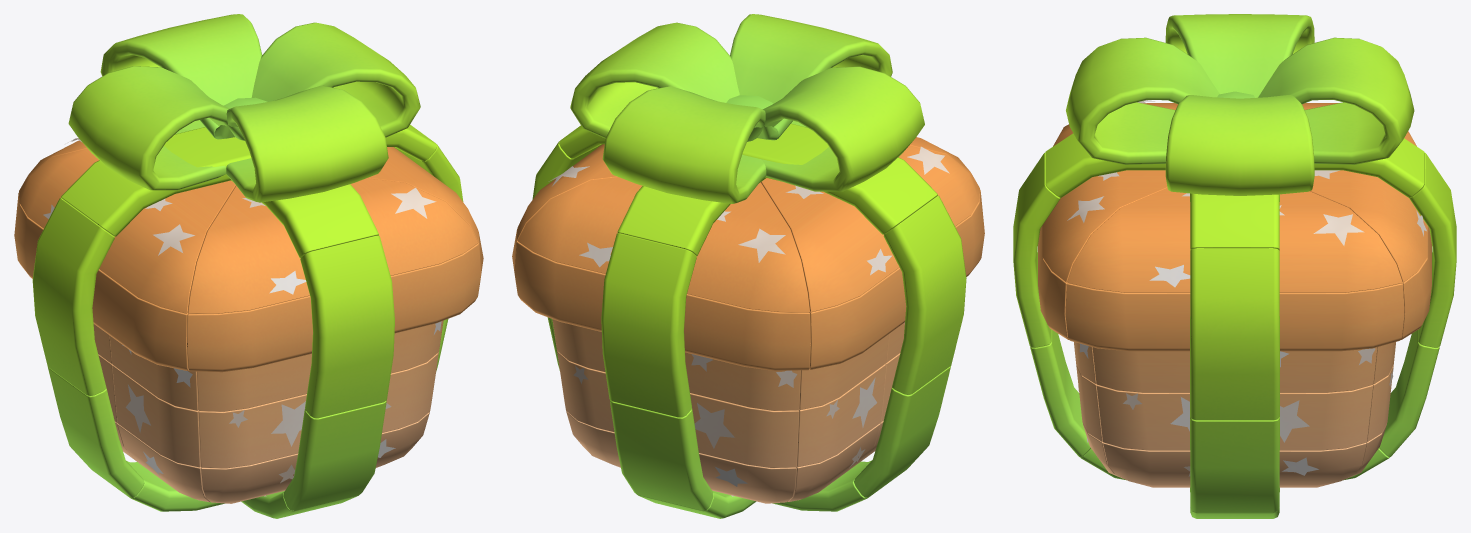
Rendered from level_181.fbx.
The picture shows the model from 3 angles, left to right: view 1: azimuth 30°, elevation 25°; view 2: azimuth 150°, elevation 25°; view 3: azimuth 270°, elevation 25°; orthographic projection.
Visible parts, largest first — view 1: Cube_L1_3, Cube_L1_12, Cube_L1_2, Cube_L1_11, Cube_L2_5, Cube_L1, Cube_L2_4, Cube_L1_1, Cube_L1_16, Cube_L2_13, Cube_L2_6, Cube_L1_7 (+20 smaller); view 2: Cube_L1_1, Cube_L1_10, Cube_L1_2, Cube_L1_11, Cube_L2_2, Cube_L1, Cube_L2_3, Cube_L1_3, Cube_L1_14, Cube_L2_10, Cube_L2_1, Cube_L1_7 (+20 smaller); view 3: Cube_L1_9, Cube_L1, Cube_L1_1, Cube_L1_3, Cube_L2_7, Cube_L2, Cube_L1_13, Cube_L1_2, Cube_L2_8, Cube_L2_15, Cube_L2_6, Cube_L2_1 (+20 smaller).
Part boxes in pixels (box(x1,y1,x2,y2)): Cube_L1_3: box(214, 85, 388, 202); Cube_L1_12: box(300, 235, 394, 418); Cube_L1_2: box(68, 66, 244, 190); Cube_L1_11: box(32, 198, 114, 396); Cube_L2_5: box(187, 186, 309, 314); Cube_L1: box(251, 22, 420, 137); Cube_L2_4: box(99, 180, 235, 313); Cube_L1_1: box(100, 14, 261, 137); Cube_L1_16: box(283, 401, 386, 510); Cube_L2_13: box(187, 296, 312, 372); Cube_L2_6: box(350, 178, 477, 275); Cube_L1_7: box(61, 127, 251, 236); Cube_L1_1: box(602, 86, 777, 203); Cube_L1_10: box(601, 233, 696, 417); Cube_L1_2: box(747, 66, 924, 191); Cube_L1_11: box(883, 195, 966, 395); Cube_L2_2: box(687, 182, 810, 312); Cube_L1: box(570, 22, 739, 138); Cube_L2_3: box(761, 178, 899, 312); Cube_L1_3: box(730, 14, 892, 138); Cube_L1_14: box(610, 400, 713, 510); Cube_L2_10: box(684, 294, 810, 370); Cube_L2_1: box(517, 177, 642, 273); Cube_L1_7: box(742, 123, 937, 234); Cube_L1_9: box(1190, 248, 1279, 420); Cube_L1: box(1165, 95, 1314, 195); Cube_L1_1: box(1258, 37, 1414, 164); Cube_L1_3: box(1066, 37, 1219, 164); Cube_L2_7: box(1067, 188, 1190, 292); Cube_L2: box(1279, 191, 1402, 292); Cube_L1_13: box(1190, 417, 1279, 512); Cube_L1_2: box(1165, 14, 1314, 97); Cube_L2_8: box(1279, 283, 1404, 351); Cube_L2_15: box(1065, 283, 1190, 351); Cube_L2_6: box(1042, 170, 1167, 282); Cube_L2_1: box(1310, 170, 1427, 282).
Bounding box in the file's own units: 17.31 × 17.23 × 16.88.
